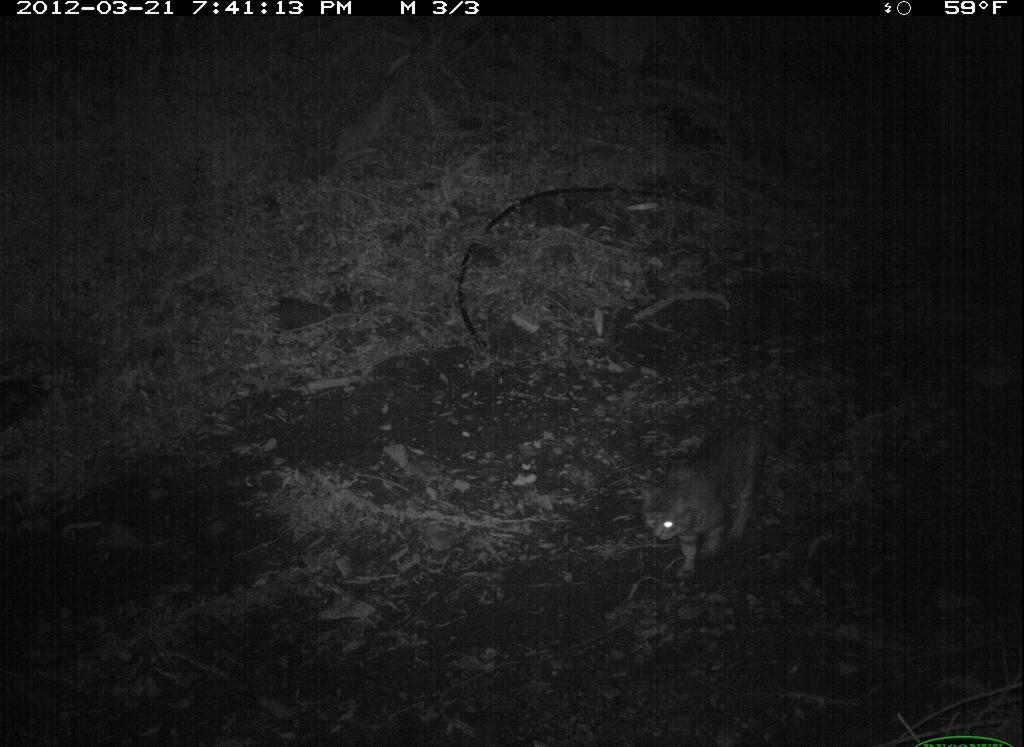cat: (635, 409, 803, 585)
